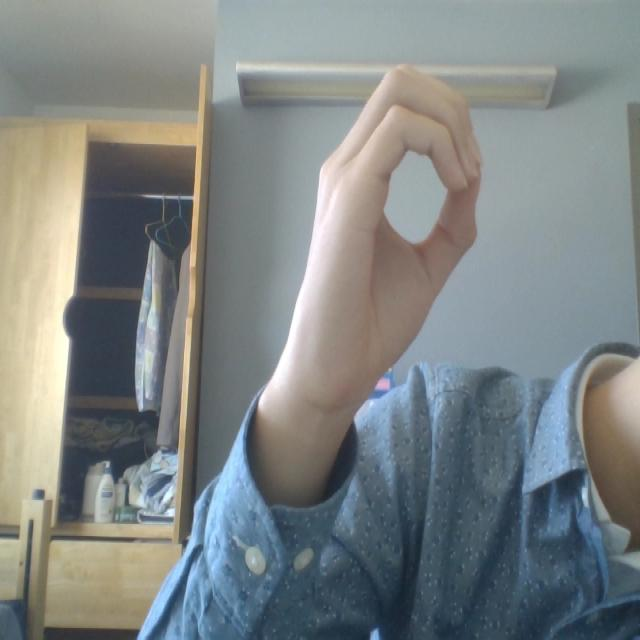O: (274, 26, 501, 463)
